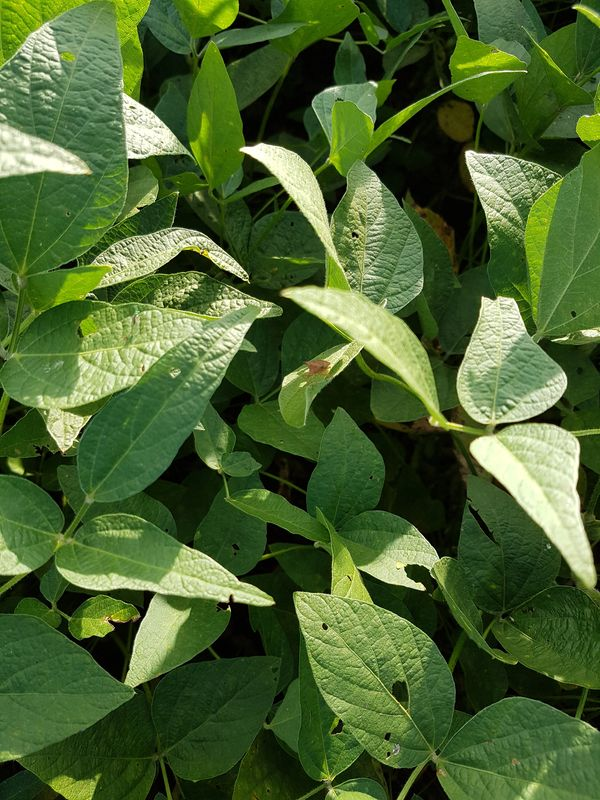Euschistus_heros_adulto: (299, 354, 336, 384)
